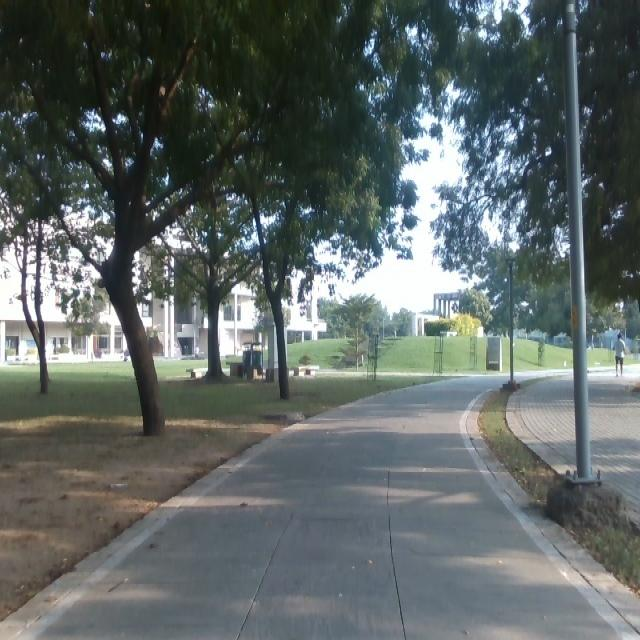lane: (39, 374, 623, 640)
